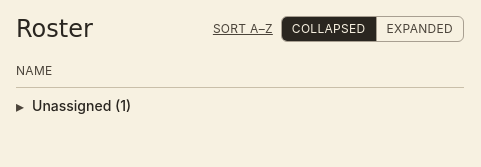
Scenario: /roster — staleness guard (generation discipline) › a stale (superseded) load resolving after a collective switch does not clobber the newer result
The width and height of the screenshot is (481, 167).
What coordinates should you click on to do the following:
click the button with test id "section-toggle-unassigned"
I would click on:
 (82, 106)
Its box is [16, 88, 464, 124].
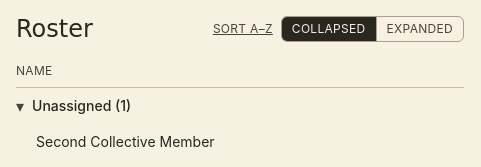
Check: the list item with test id "roster-row-member-2" is shown, box [36, 133, 215, 150]
